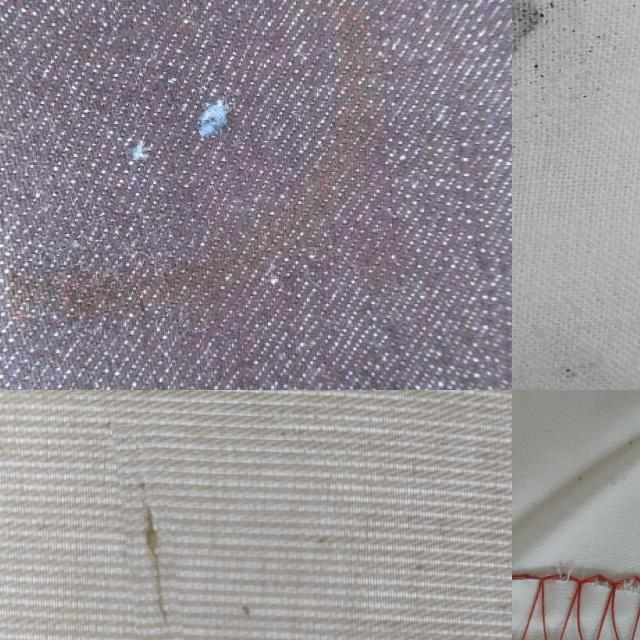Thread_other: (512, 0, 590, 155)
stains: (30, 19, 278, 251), (120, 420, 182, 640)
